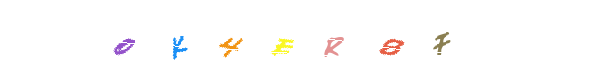4: (242, 0, 322, 80)
8: (290, 0, 370, 80)
E: (257, 0, 337, 80)
F: (401, 0, 481, 80)
K: (138, 0, 218, 80)
O: (83, 0, 163, 80)
R: (283, 0, 363, 80)
